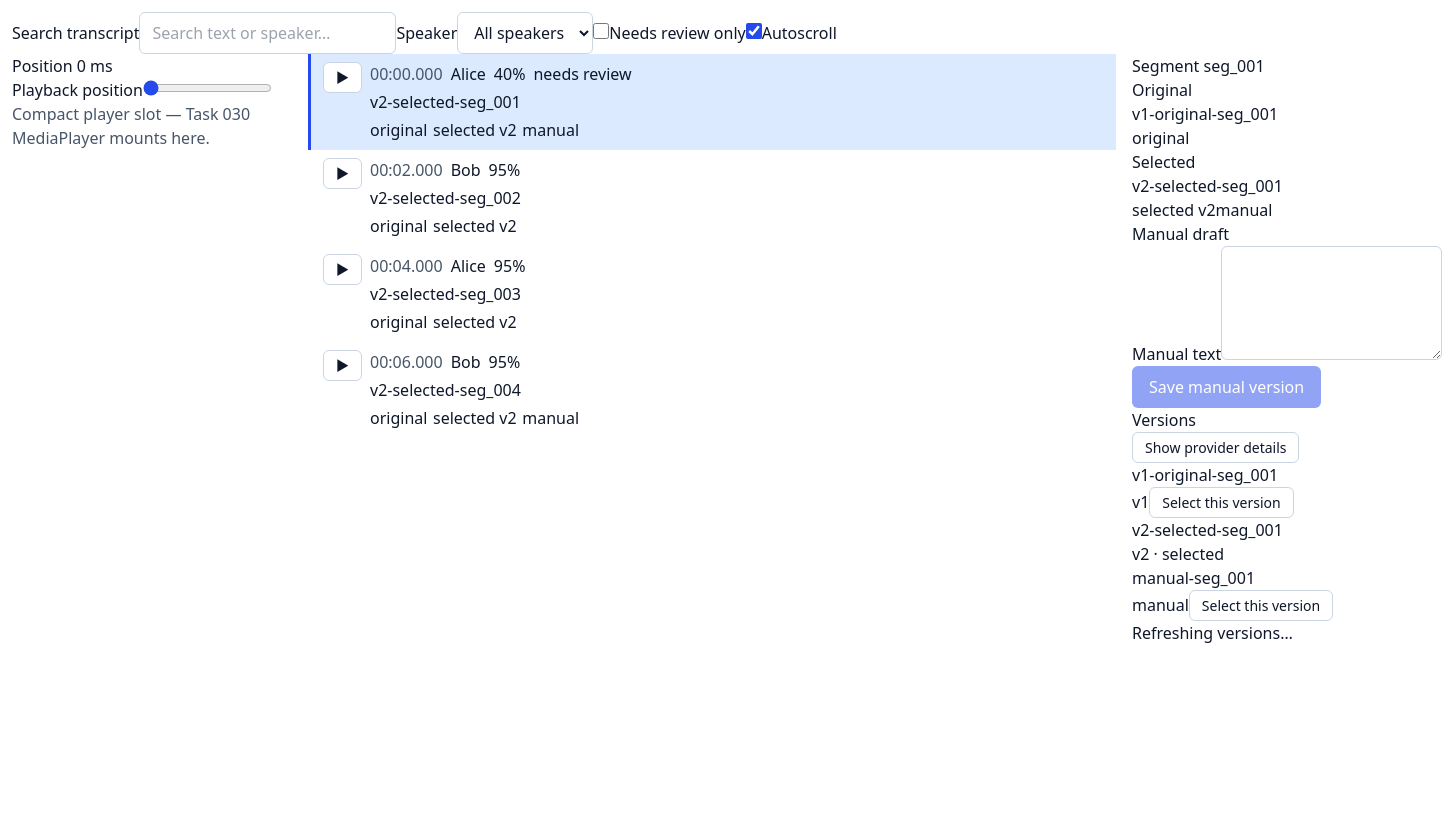
Scenario: manual-version flow (R1 optimistic draft + rollback) › rolls back to the preserved draft on 409 without auto-resubmitting
Type "do not lose me" into the text box with test id "transcript-manual-draft" at (1332, 303), box [1221, 246, 1442, 360]
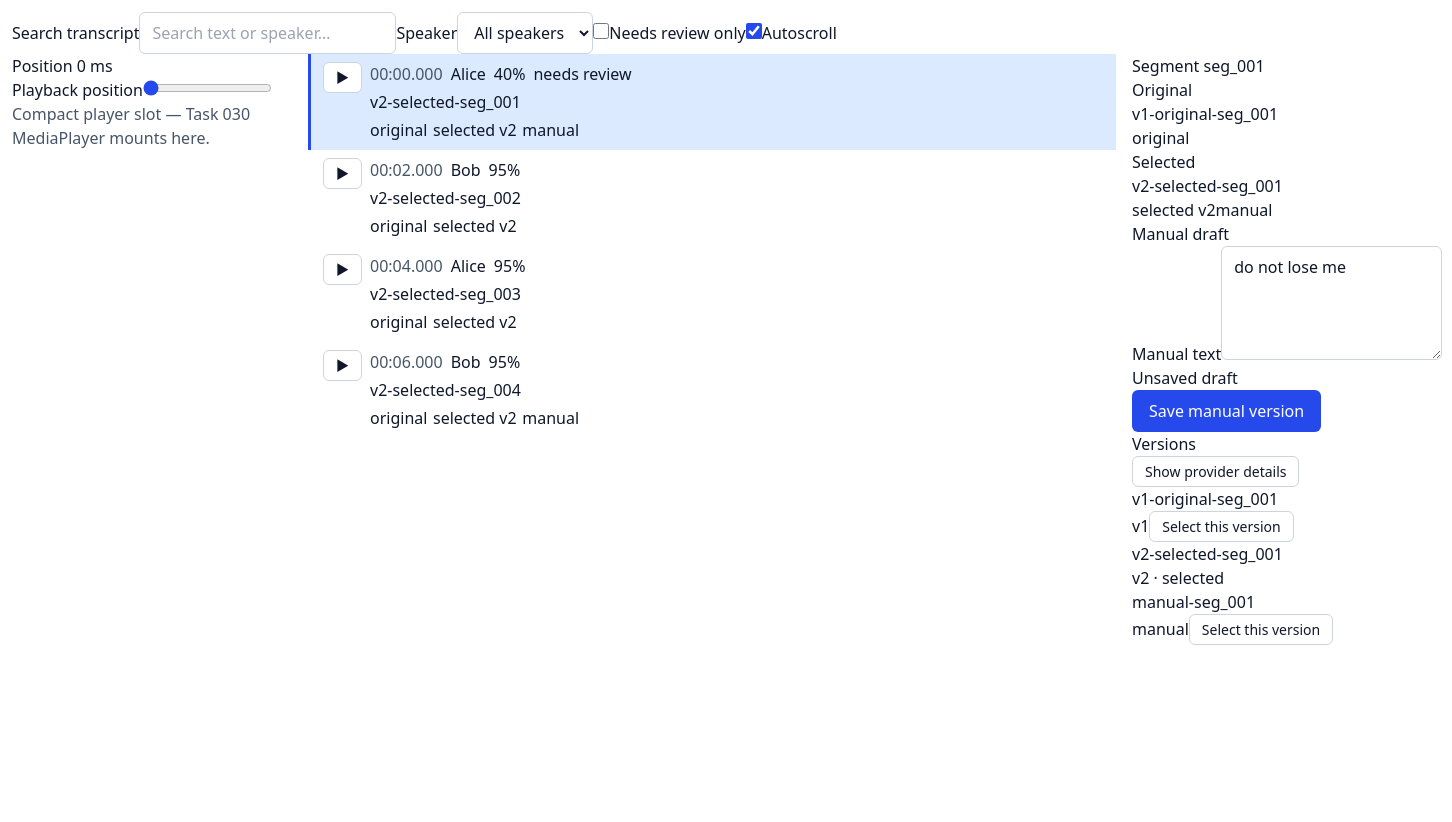
Click the button with test id "transcript-manual-save" at (1227, 411), box [1132, 390, 1321, 432]
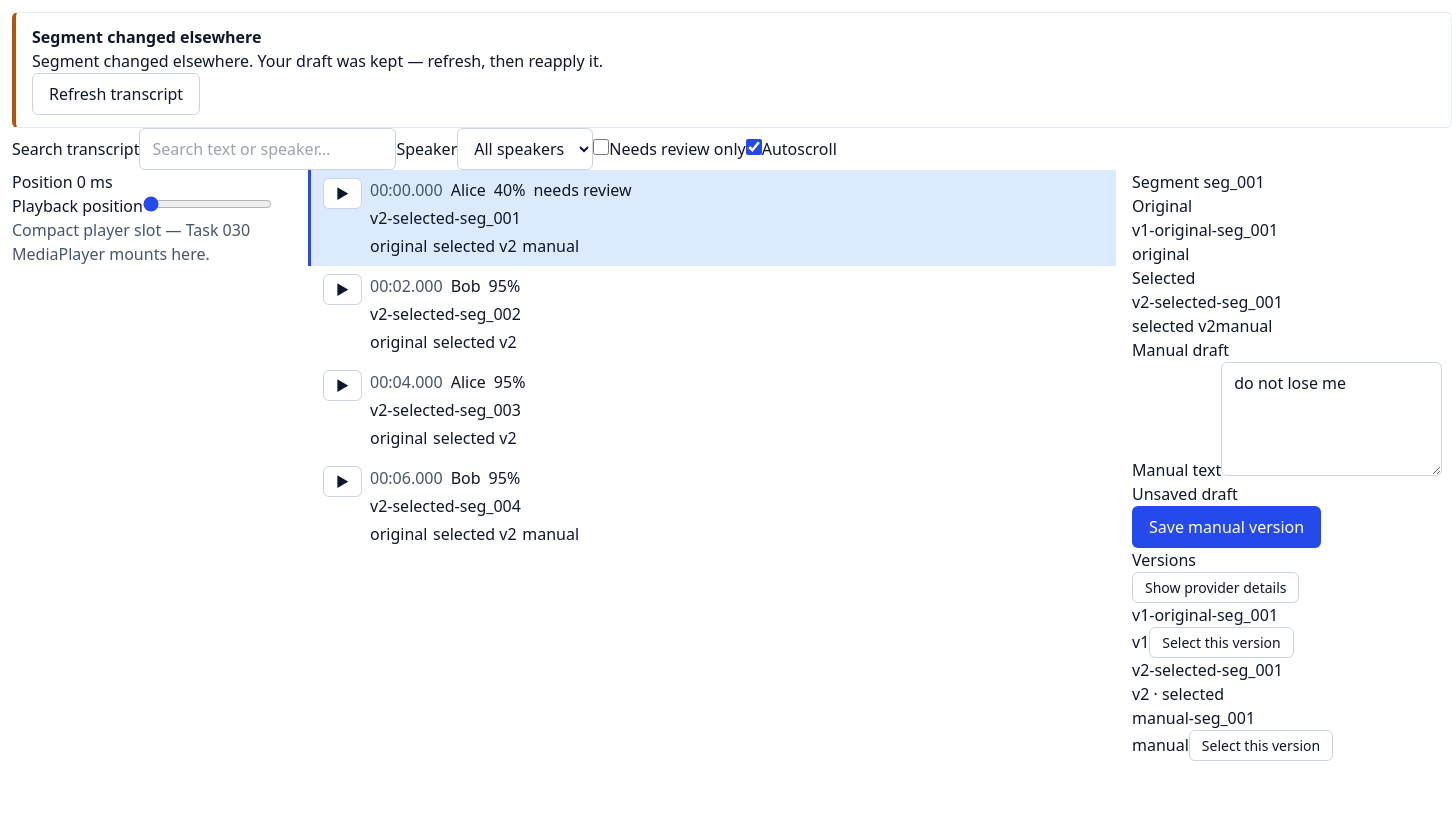
expect the element with test id "transcript-stale-banner" is shown: met, box [12, 12, 1451, 128]
